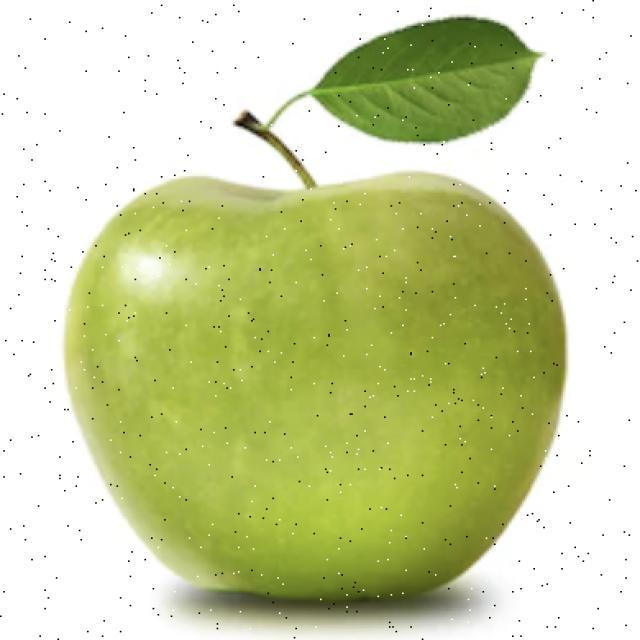Fresh Apple: (59, 165, 554, 587)
